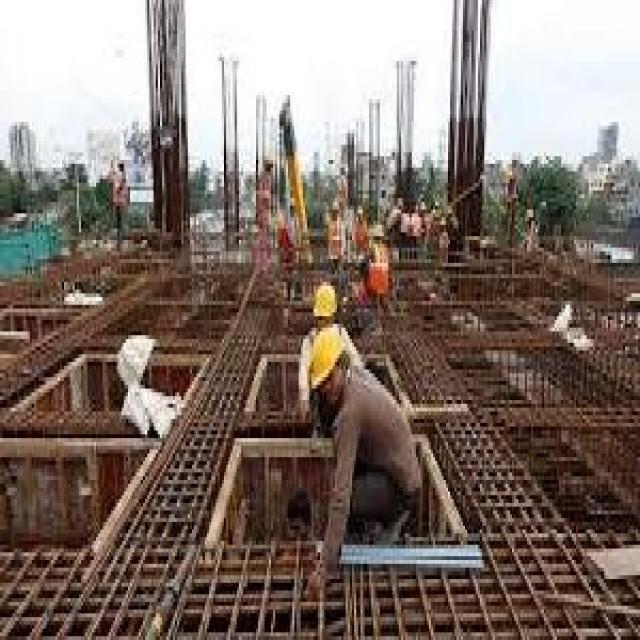reflective_jacket: (324, 362, 428, 541), (324, 217, 345, 270)
safety_helmet: (296, 324, 352, 400), (307, 274, 343, 327), (328, 194, 341, 217)
